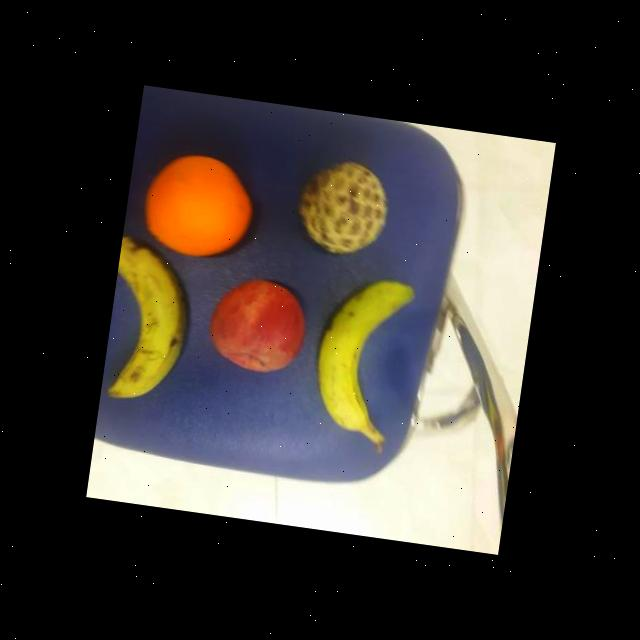Sakya fruit: (290, 148, 397, 264)
apple: (202, 270, 312, 382)
banana: (305, 268, 420, 451), (99, 235, 203, 409)
orange: (137, 141, 262, 268)
